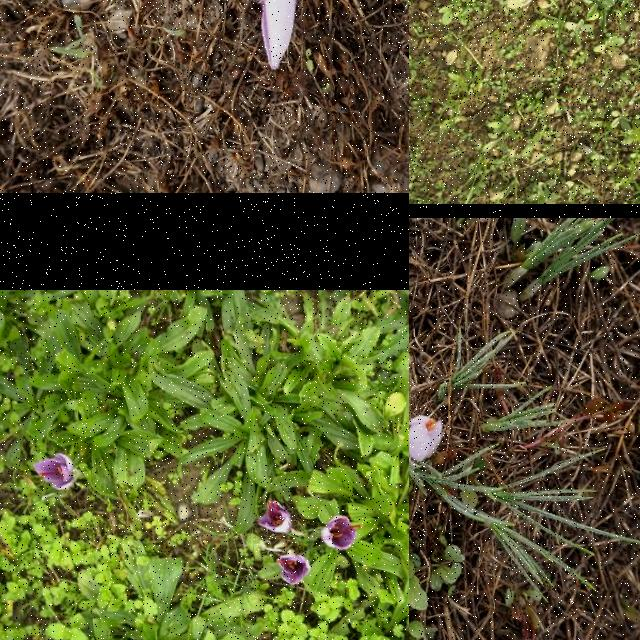flower: (261, 0, 298, 71), (33, 454, 76, 491), (409, 416, 442, 461), (322, 516, 358, 552), (258, 499, 292, 535), (276, 554, 310, 586)
